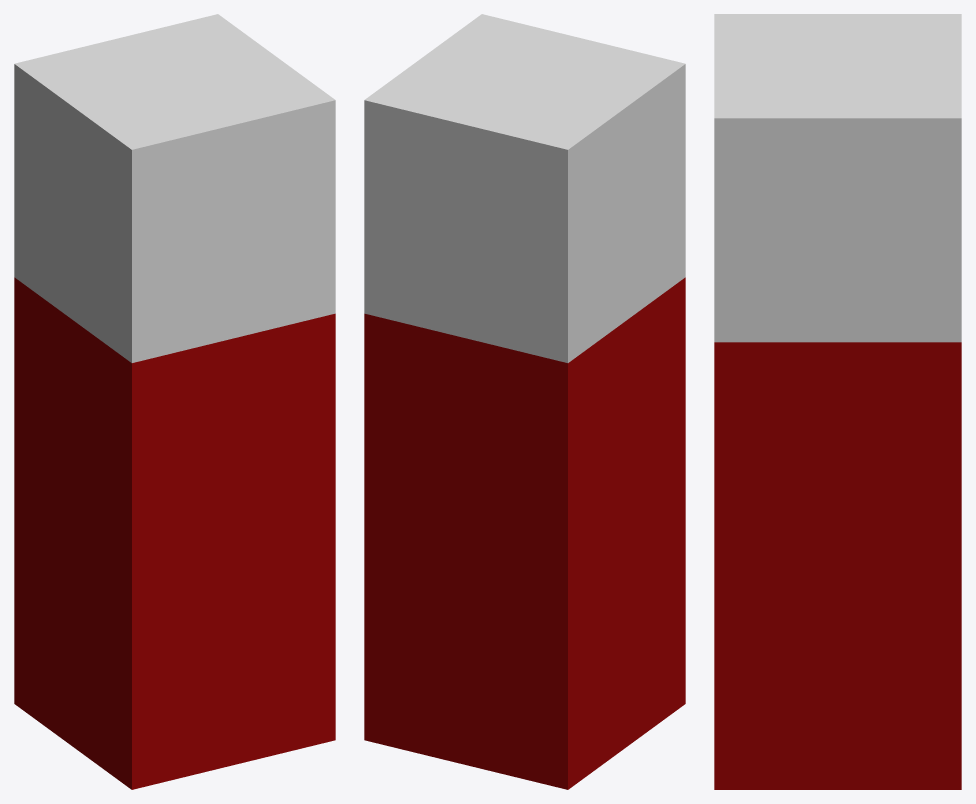
Rendered from Flask_for_Texturing-0.obj.
The picture shows the model from 3 angles, left to right: view 1: azimuth 30°, elevation 25°; view 2: azimuth 150°, elevation 25°; view 3: azimuth 270°, elevation 25°; orthographic projection. The views are drawn at different scales.
Bounding box in the file's own units: 0.1 × 0.3 × 0.1.
1 material, 1 textured.
